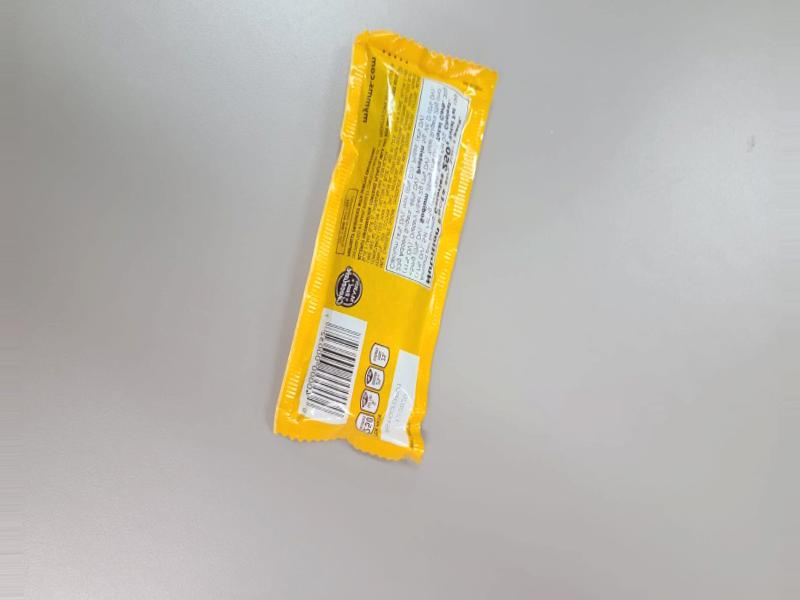m&m: (292, 20, 488, 449)
